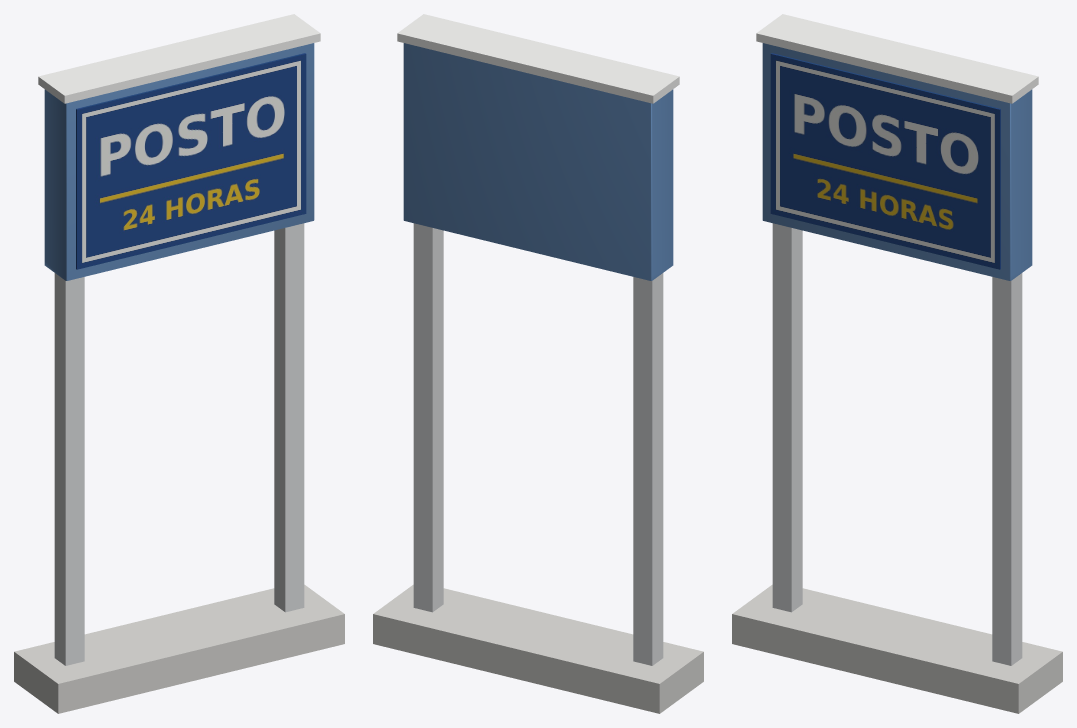
The model's file is price_pylon.glb.
3 renders of one model, left to right at view 1: azimuth 30°, elevation 25°; view 2: azimuth 150°, elevation 25°; view 3: azimuth 330°, elevation 25°, orthographic.
Visible parts, largest first — view 1: price_pylon_sign, price_pylon_alu, price_pylon_concrete, price_pylon_band, price_pylon_trim; view 2: price_pylon_band, price_pylon_alu, price_pylon_concrete, price_pylon_trim; view 3: price_pylon_sign, price_pylon_alu, price_pylon_concrete, price_pylon_band, price_pylon_trim.
Part boxes in pixels (left/top/right/bottom): price_pylon_sign: left=76, top=53, right=306, bottom=269; price_pylon_alu: left=54, top=223, right=304, bottom=665; price_pylon_concrete: left=14, top=584, right=344, bottom=713; price_pylon_band: left=44, top=43, right=314, bottom=280; price_pylon_trim: left=38, top=14, right=320, bottom=103; price_pylon_band: left=403, top=43, right=673, bottom=280; price_pylon_alu: left=413, top=223, right=663, bottom=665; price_pylon_concrete: left=373, top=584, right=703, bottom=713; price_pylon_trim: left=397, top=14, right=679, bottom=103; price_pylon_sign: left=770, top=53, right=1000, bottom=269; price_pylon_alu: left=772, top=223, right=1022, bottom=665; price_pylon_concrete: left=732, top=584, right=1062, bottom=713; price_pylon_band: left=762, top=43, right=1032, bottom=280; price_pylon_trim: left=756, top=14, right=1038, bottom=103.
Bounding box in the file's own units: 3 × 6.08 × 0.8.
Materials: 5 (1 with a texture image).
